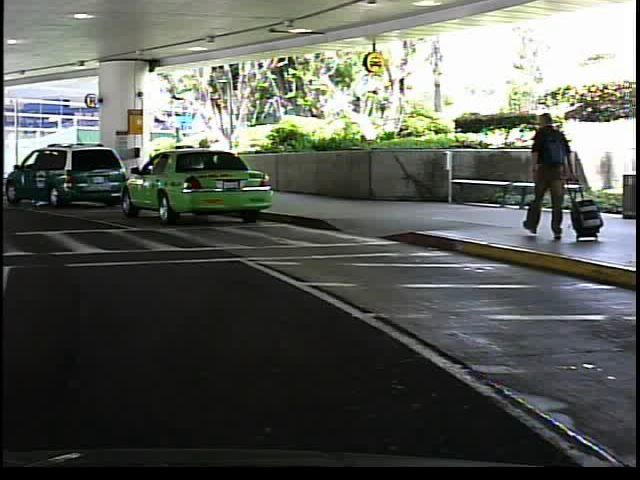person: (515, 106, 578, 248)
